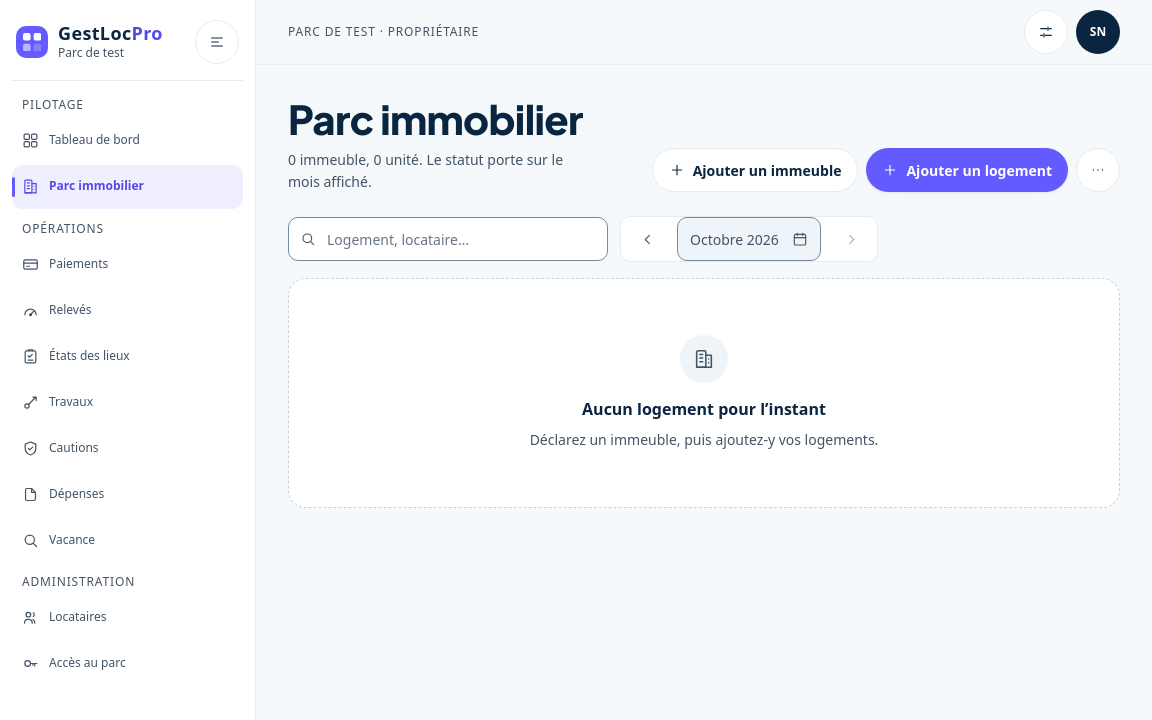
Test: la délégation se règle avec le reste du parc › dit pourquoi la gestion seule a été refusée
Click the button named "Autres actions" at [1098, 170], box [1076,148,1120,192]
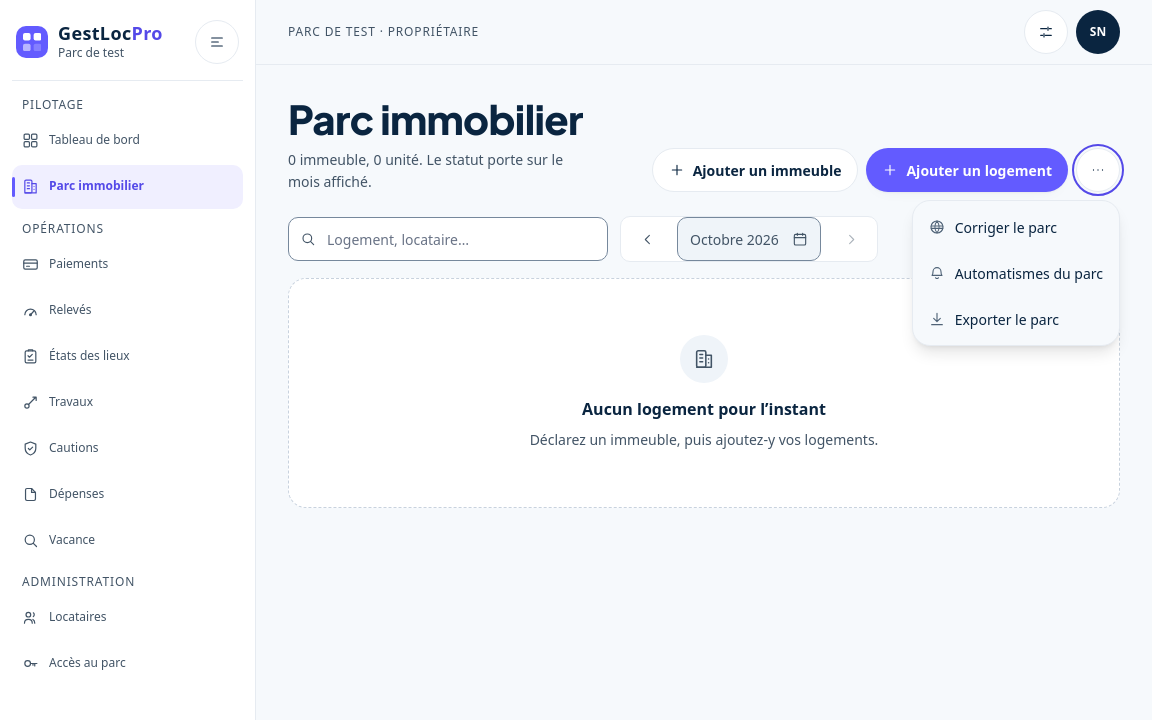
Click the menu item "Corriger le parc" at [1016, 227], box [917,205,1115,249]
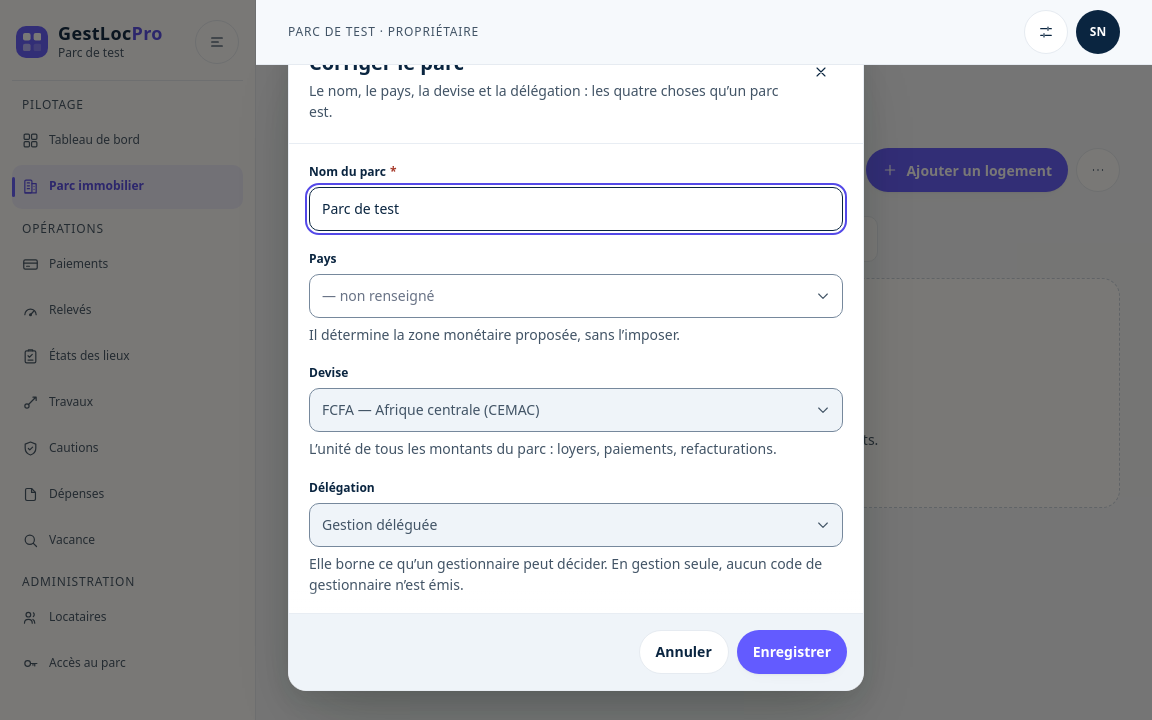
Select "Vous gérez seul" in the dropdown labelled "Délégation" at [576, 525], box [309,503,843,547]
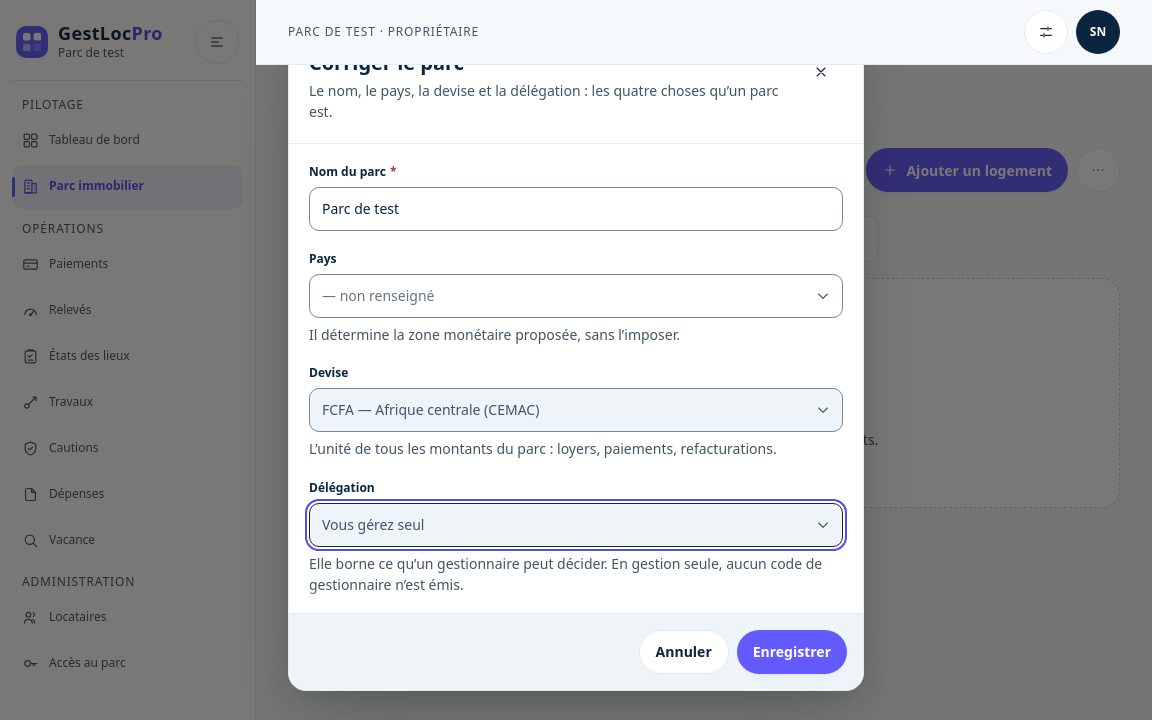
Click the button "Enregistrer" at [792, 652], box [737,630,847,674]
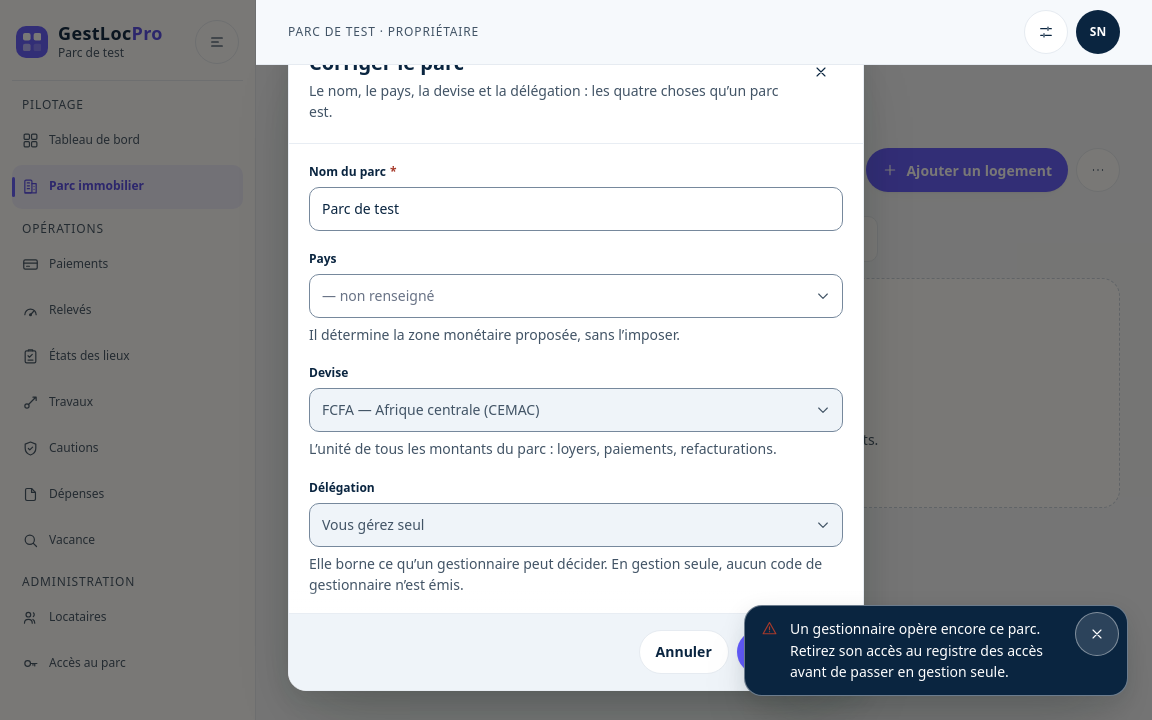
Expected: the text "registre des accès" is shown, [790,619,1043,681]
